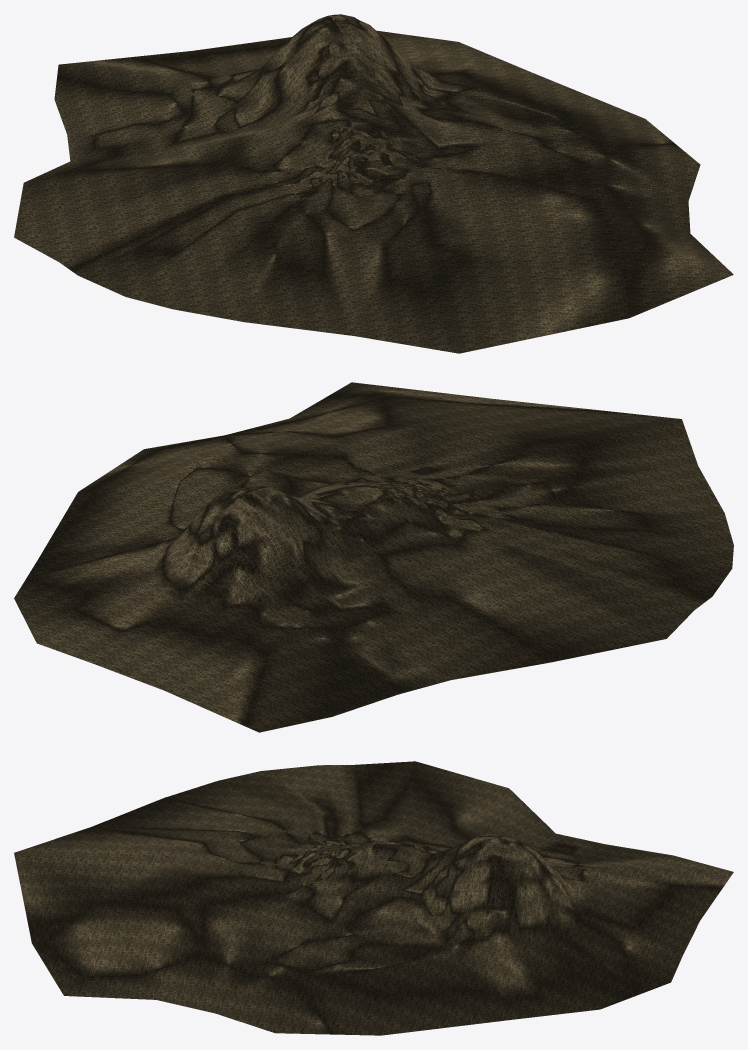
3 renders of one model, top to bottom at view 1: azimuth 30°, elevation 25°; view 2: azimuth 150°, elevation 25°; view 3: azimuth 270°, elevation 25°, orthographic. The views are drawn at different scales.
Visible parts, largest first — view 1: mesh0; view 2: mesh0; view 3: mesh0.
Boxes of the visible parts, left/top/right/bottom form: mesh0: left=14, top=14, right=733, bottom=353; mesh0: left=14, top=382, right=733, bottom=732; mesh0: left=14, top=761, right=733, bottom=1035.
Size of the model in its own units: 2618 by 446 by 3060.
